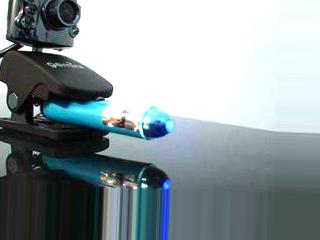webcam: (4, 1, 86, 52)
